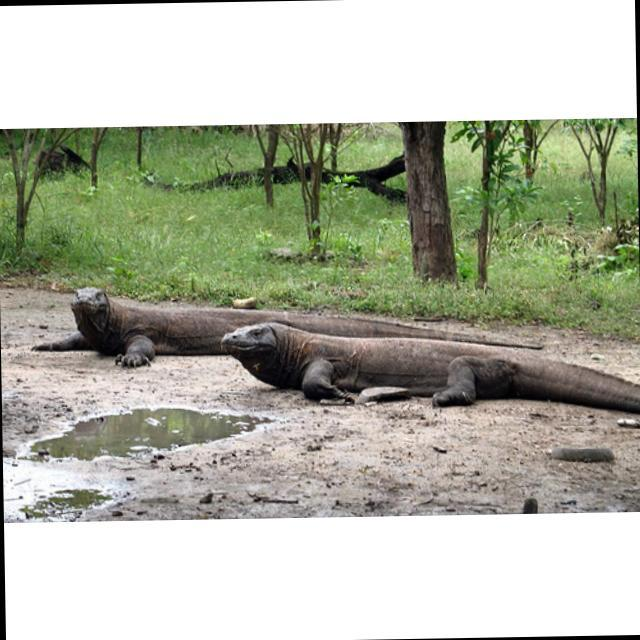KomodoDragon: (31, 275, 544, 368), (218, 315, 640, 415)
